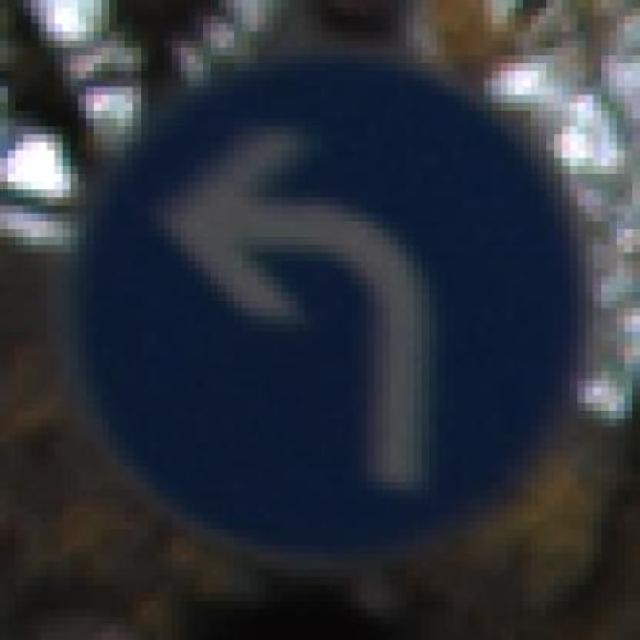Turn left ahead: (70, 39, 593, 553)
